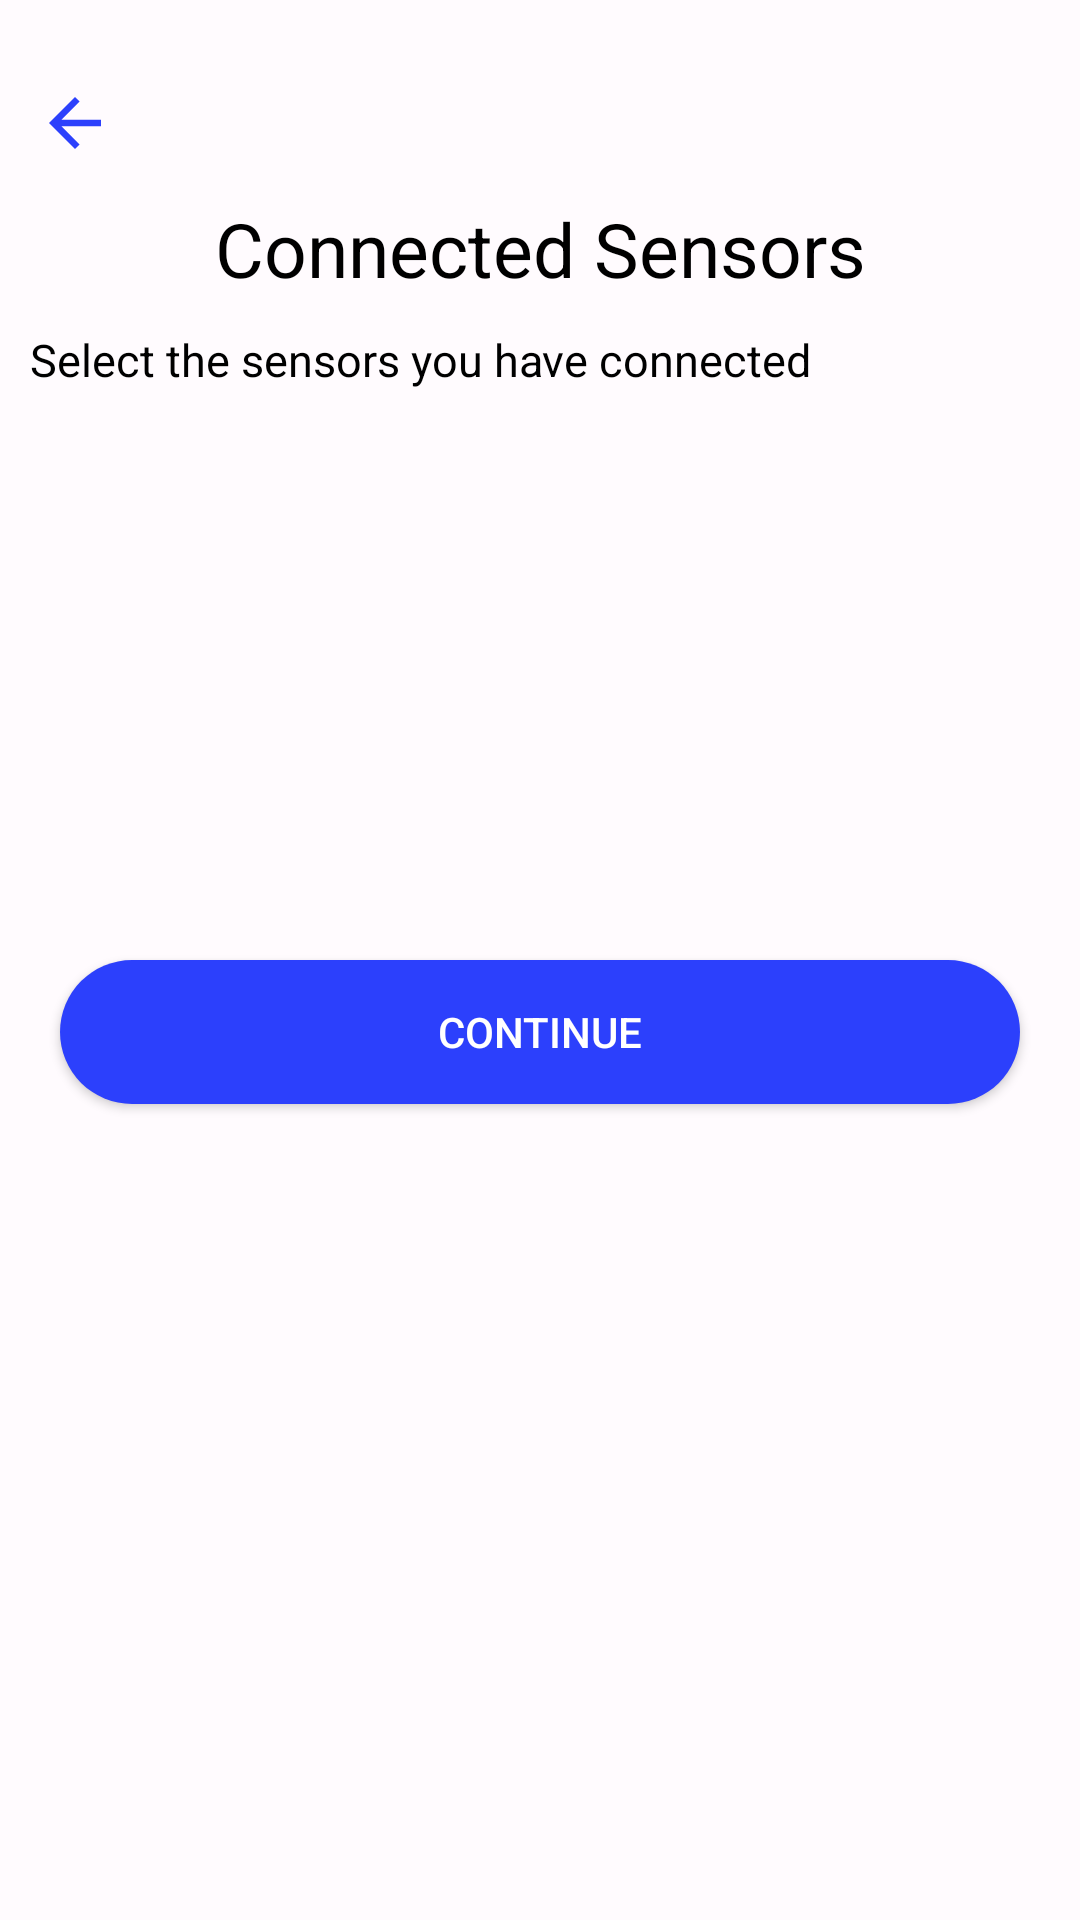

Screen size 1080*1920. Icon name, then its center in pixels as [x,y]:
back: [75,123]
